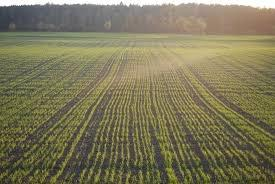field: (0, 32, 274, 182)
